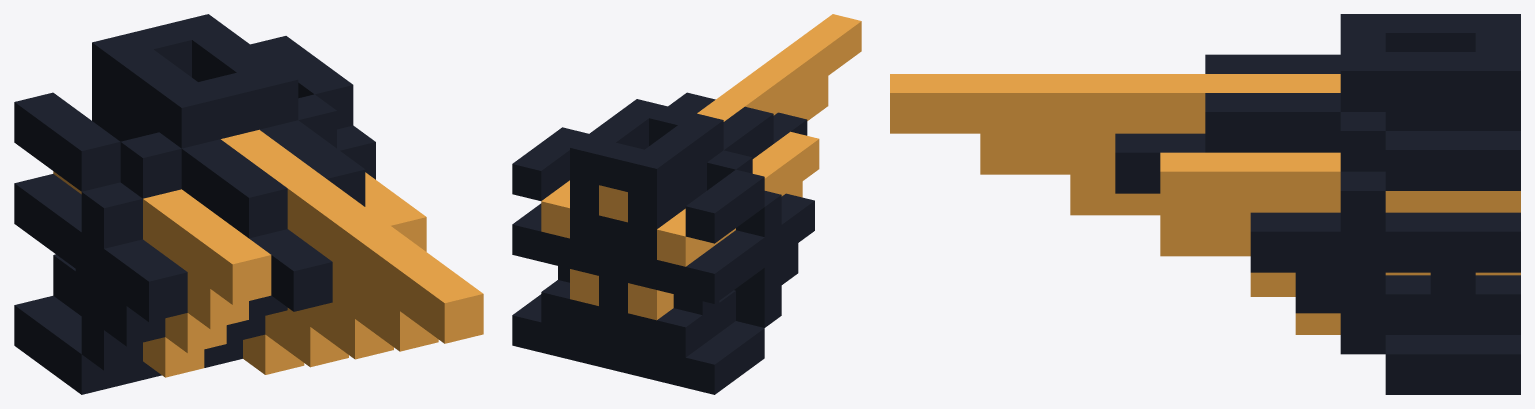
The model's file is FrontSmall1.obj.
3 renders of one model, left to right at view 1: azimuth 30°, elevation 25°; view 2: azimuth 150°, elevation 25°; view 3: azimuth 270°, elevation 25°, orthographic. The views are drawn at different scales.
Bounding box in the file's own units: 7 × 7 × 14.
1 material, 1 textured.
